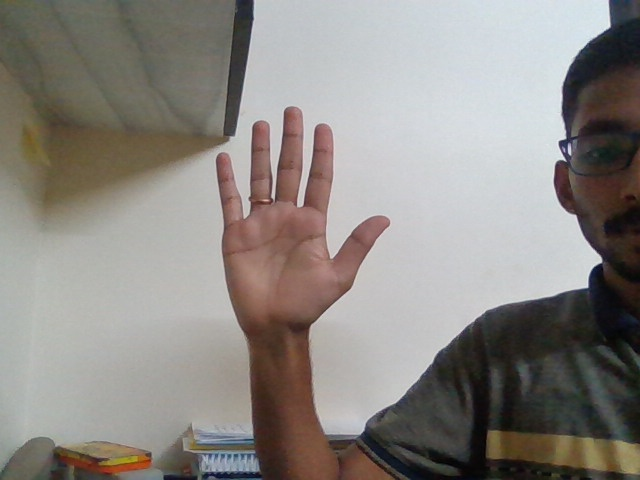Hello: (190, 91, 400, 363)
